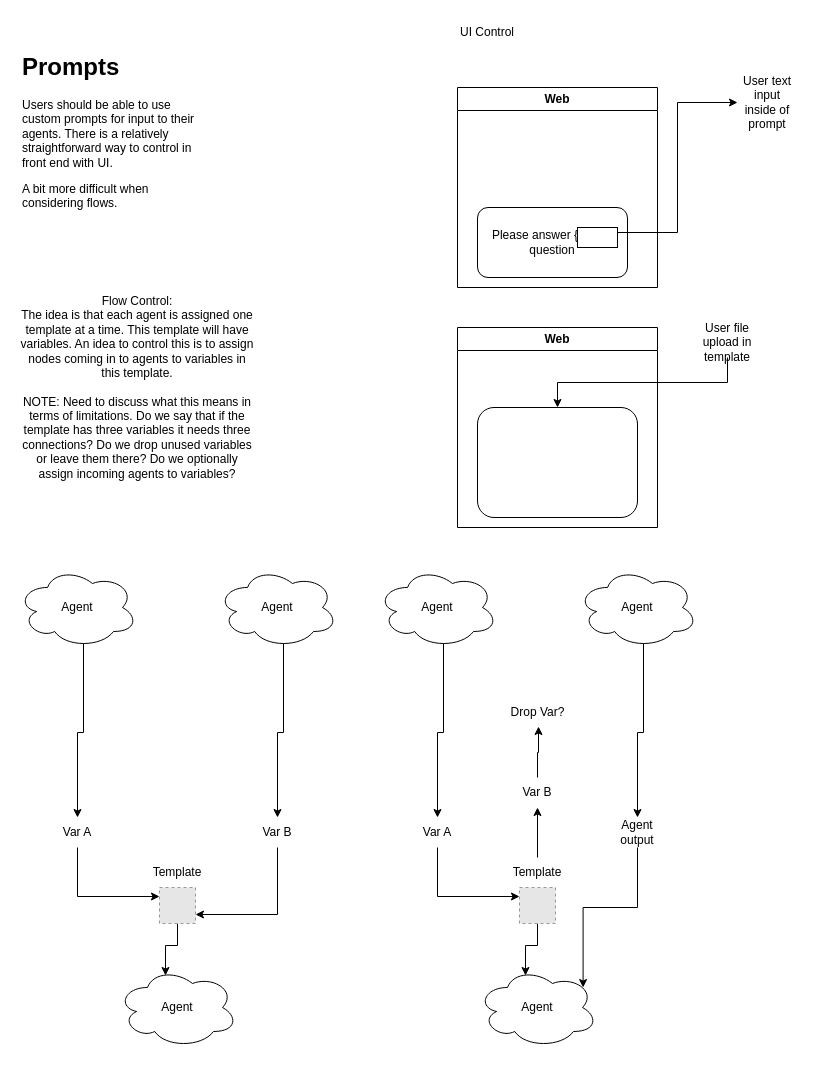
This 815x1065 diagram has some shape labels left out. Grey dashed boxes stand in for pictures. Each missing label, with the centre of its shape:
name: (597,237)
Summarize this picture: {picture} In 300 words: (557,462)
